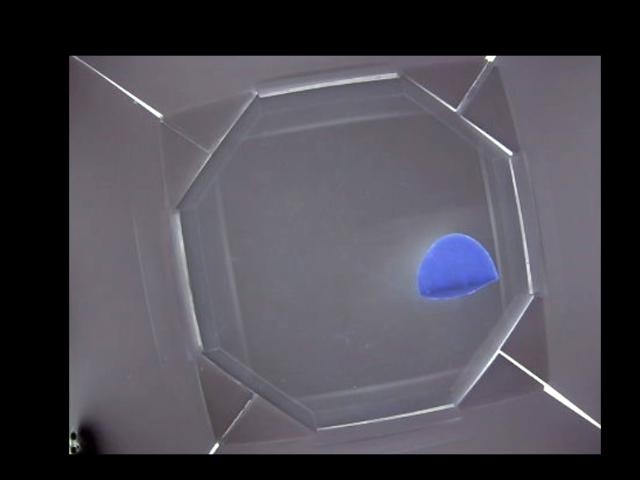Potato: (418, 233, 496, 298)
